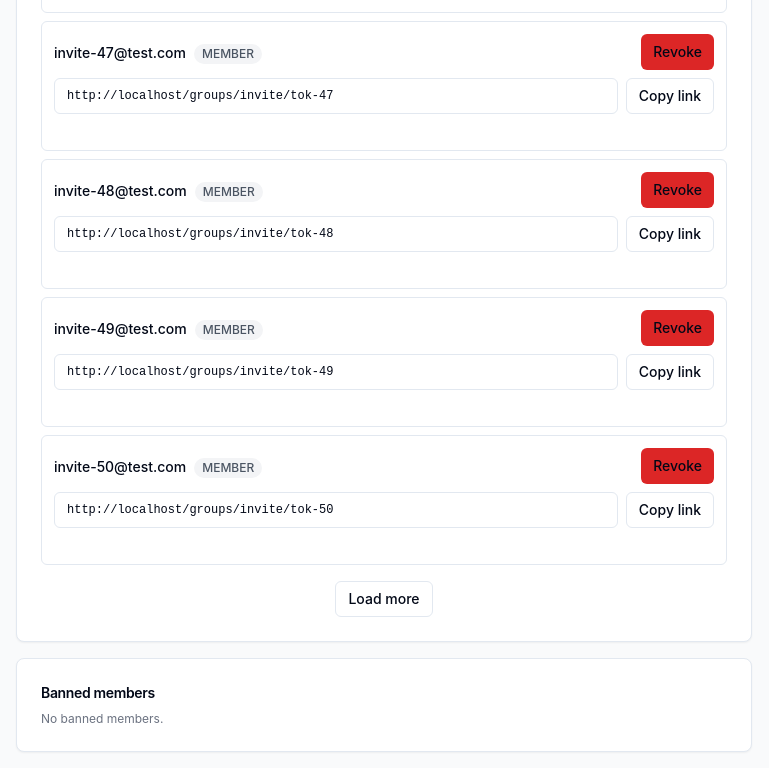
Test: GroupDetailPage › pending invite pagination › sends exactly one next-page request on rapid Load-more activation
The width and height of the screenshot is (769, 768).
(page scrolled)
// Two activations land in the same tick, before any request resolves.
What coordinates should you click on to do the following:
click the button "Load more"
I would click on:
 (384, 599)
Its box is 335,581 -> 432,617.
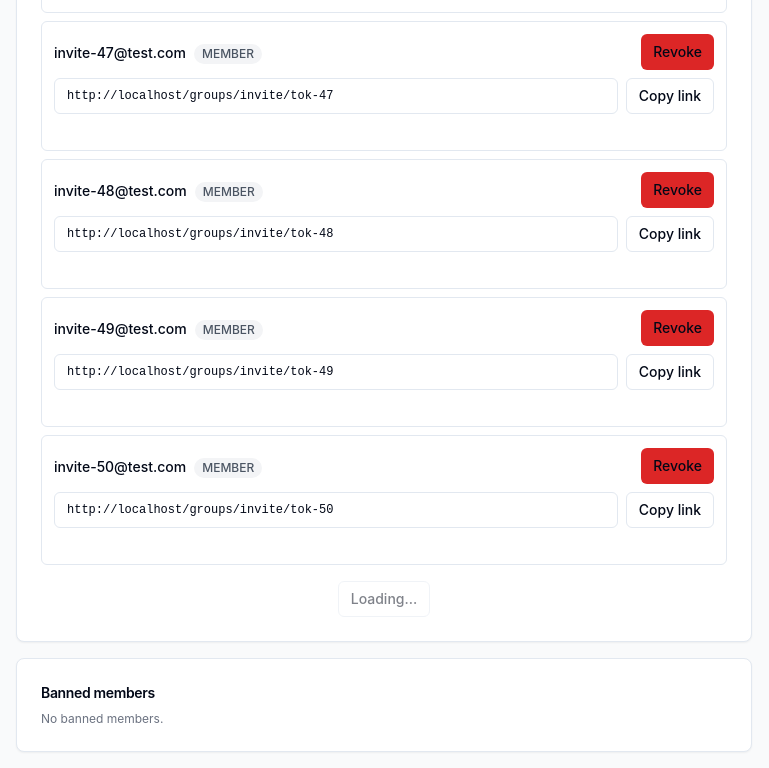
What coordinates should you click on to do the following:
click the button named "Load more"
I would click on:
 (384, 599)
Its box is 338,581 -> 430,617.
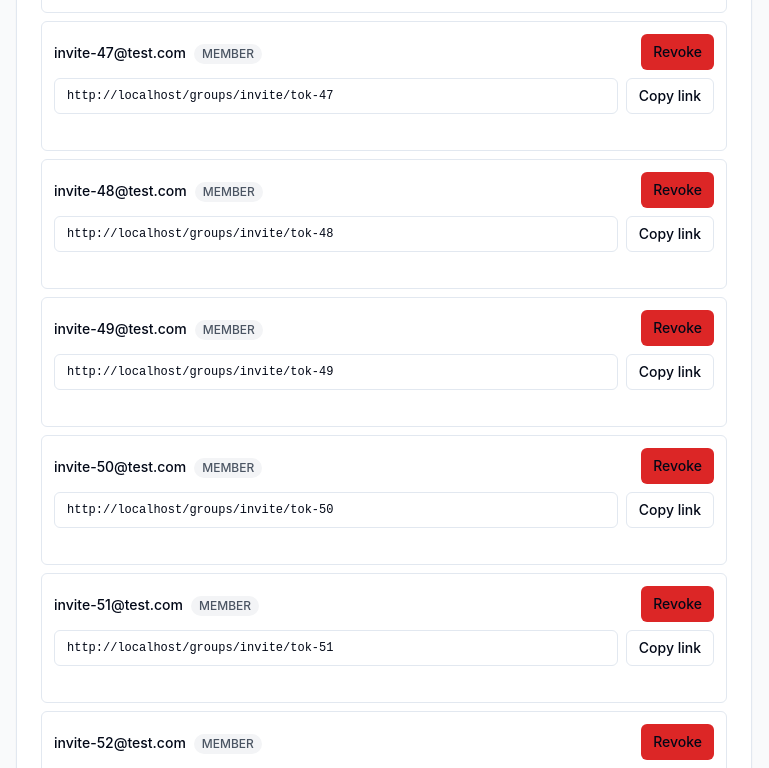
Check: the text "invite-51@test.com" is shown, box 54,596 -> 183,613
